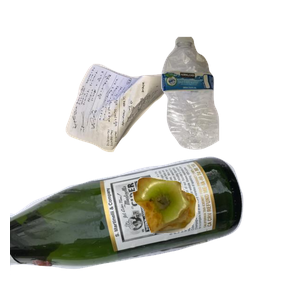glass: (10, 154, 246, 300)
paper: (63, 61, 242, 206)
plastic: (159, 34, 300, 176)
trash: (130, 175, 300, 300)
